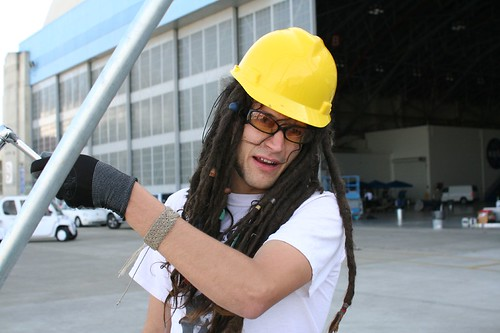person hardhat: (61, 25, 361, 333)
